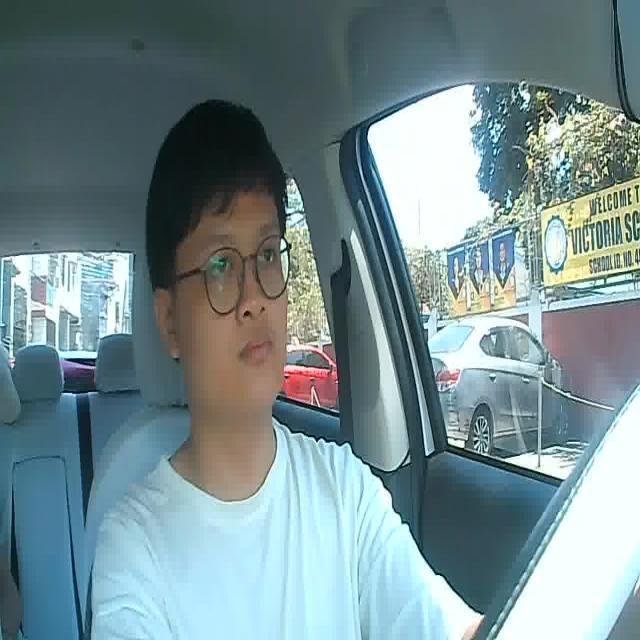Attentive: (146, 96, 295, 417)
Eye-Open: (207, 252, 239, 278), (258, 242, 282, 269)
Normal: (238, 332, 275, 368)
